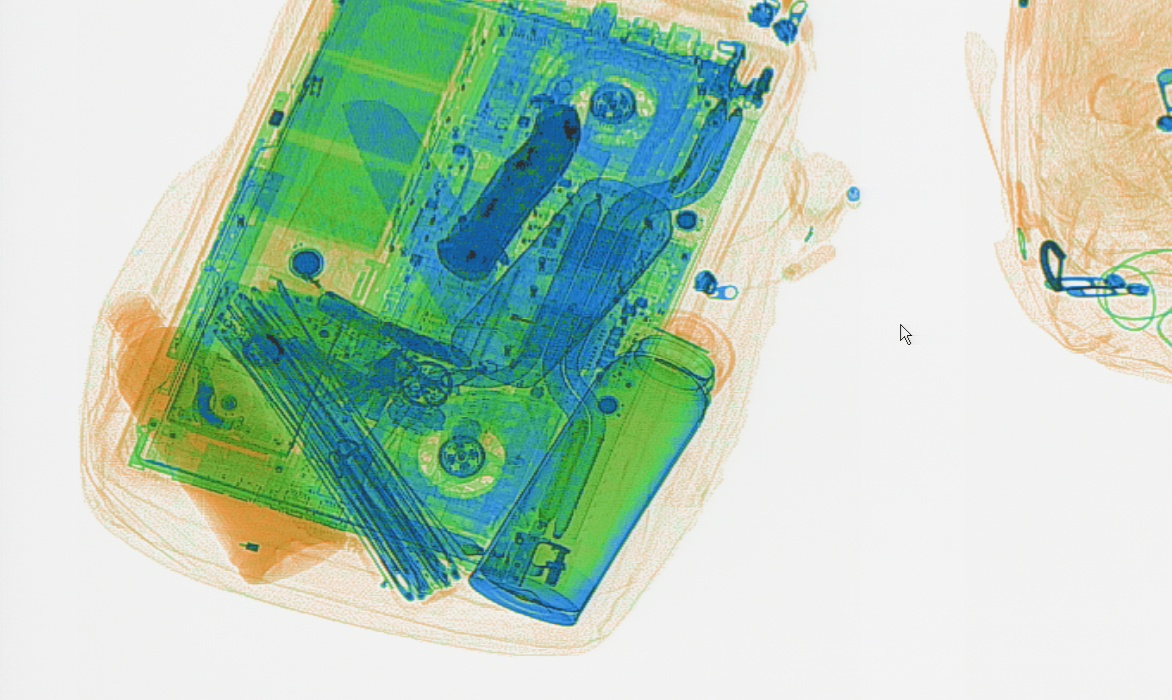knife: (339, 99, 589, 452), (435, 100, 582, 281)
lighter: (469, 285, 596, 344)
